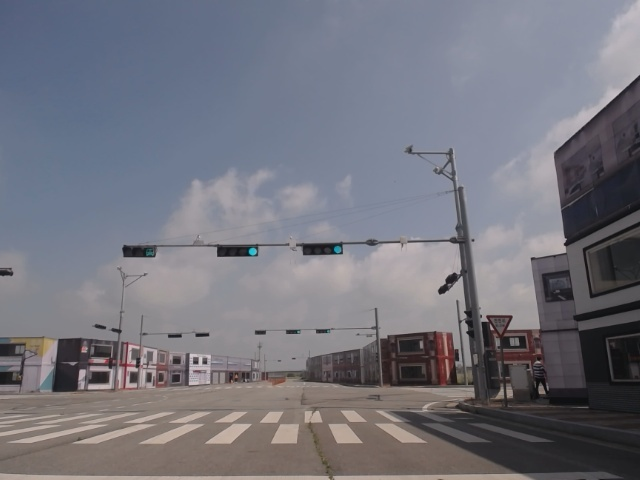straight_green_4: (303, 244, 343, 254), (216, 247, 258, 256)
